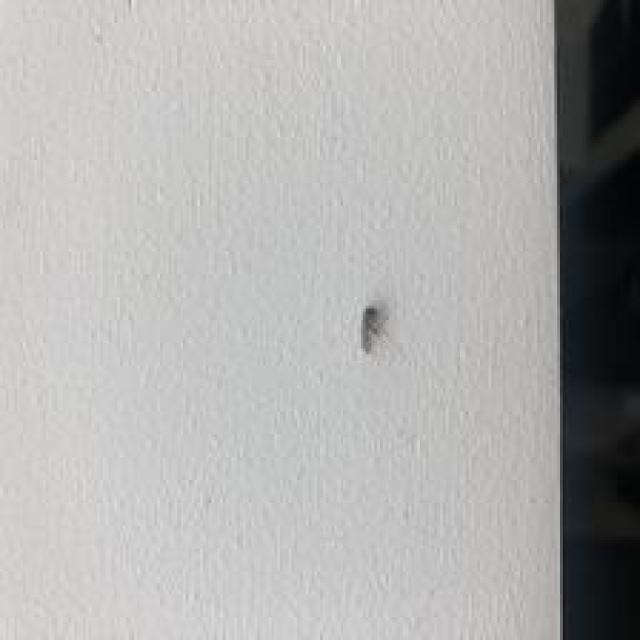Culex: (359, 304, 387, 353)
